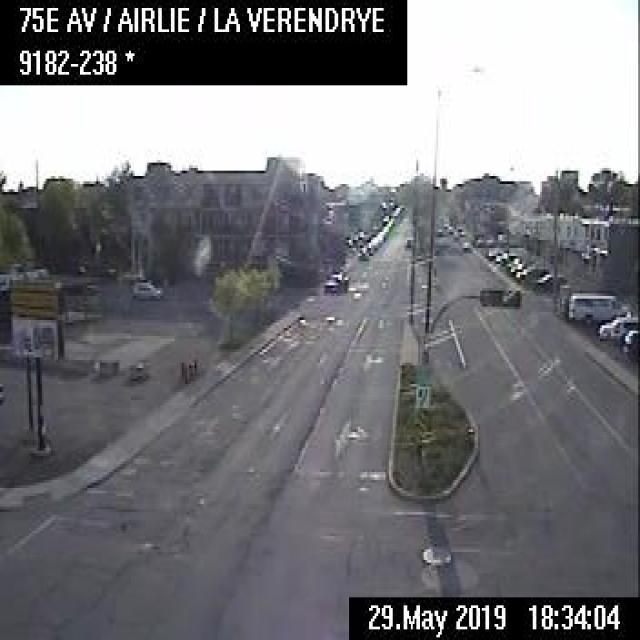construction: (182, 358, 188, 382), (187, 359, 194, 378)
vehicle: (567, 290, 631, 322), (598, 314, 637, 339), (533, 270, 565, 294), (129, 276, 164, 297), (514, 263, 548, 282), (620, 328, 638, 358), (330, 268, 348, 289), (322, 276, 336, 294), (355, 245, 369, 258), (460, 240, 471, 251), (435, 226, 443, 235), (451, 231, 460, 238)
